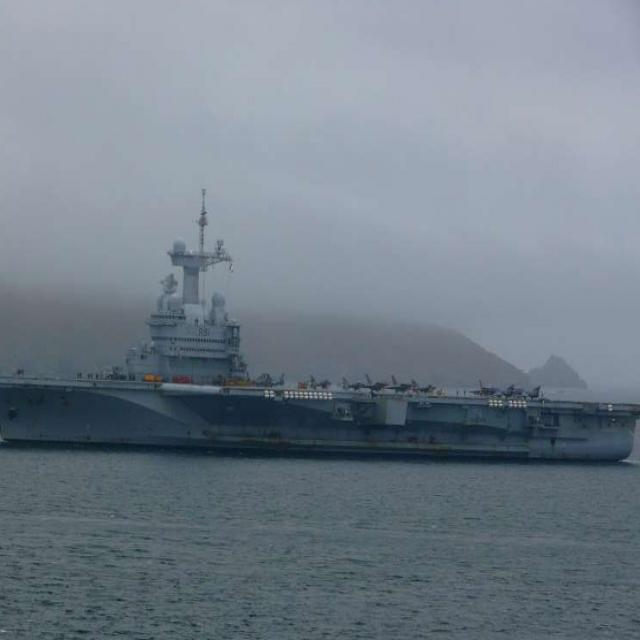Portanaves: (1, 187, 640, 469)
